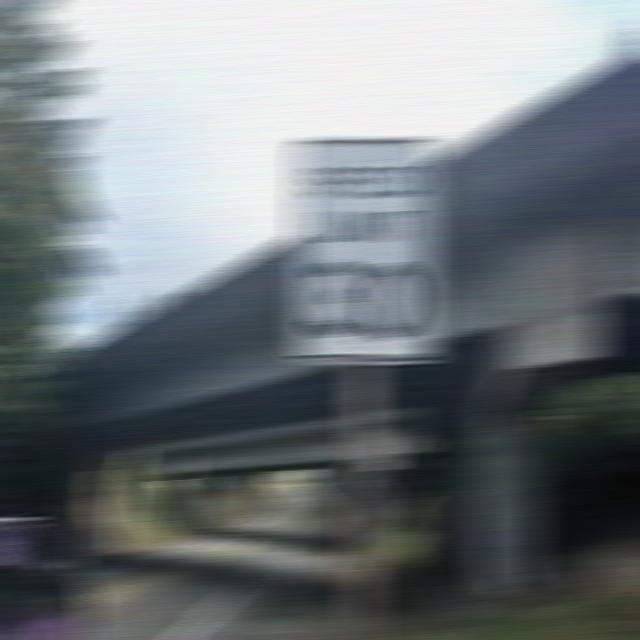speedLimit35: (294, 135, 439, 359)
